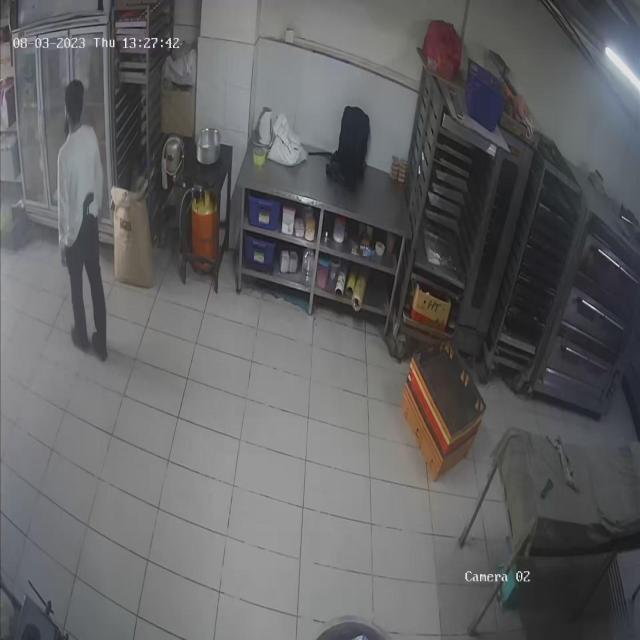Gun: (82, 191, 98, 224)
